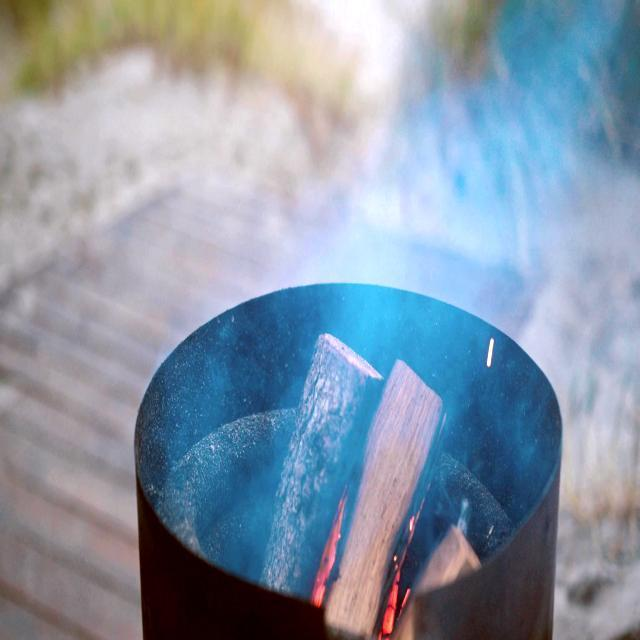Smoke: (251, 0, 640, 503)
